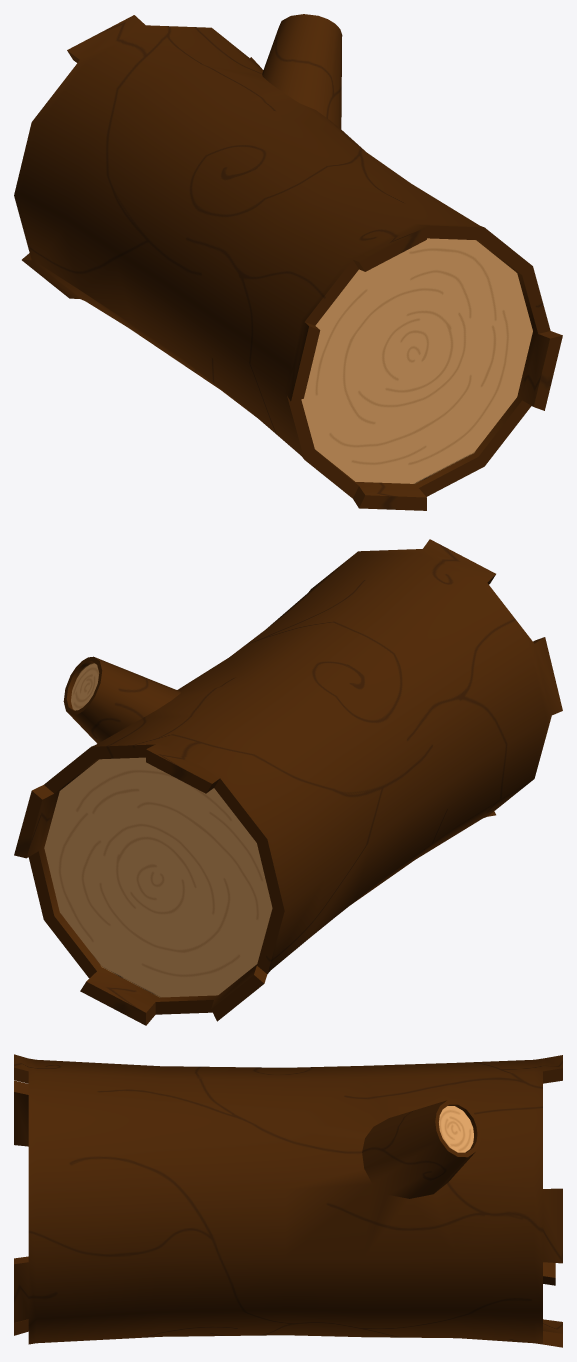
The model's file is colectable.fbx.
3 views of the same model, one above another, from view 1: azimuth 30°, elevation 25°; view 2: azimuth 150°, elevation 25°; view 3: azimuth 270°, elevation 25° (orthographic). The views are drawn at different scales.
Parts seen in each view (by area): view 1: Cylinder; view 2: Cylinder; view 3: Cylinder.
Boxes of the visible parts, bbox=[...] form: Cylinder: bbox=[14, 14, 562, 510]; Cylinder: bbox=[14, 539, 562, 1025]; Cylinder: bbox=[14, 1054, 562, 1347].
Bounding box in the file's own units: 213 × 221 × 386.
1 material, 1 textured.
